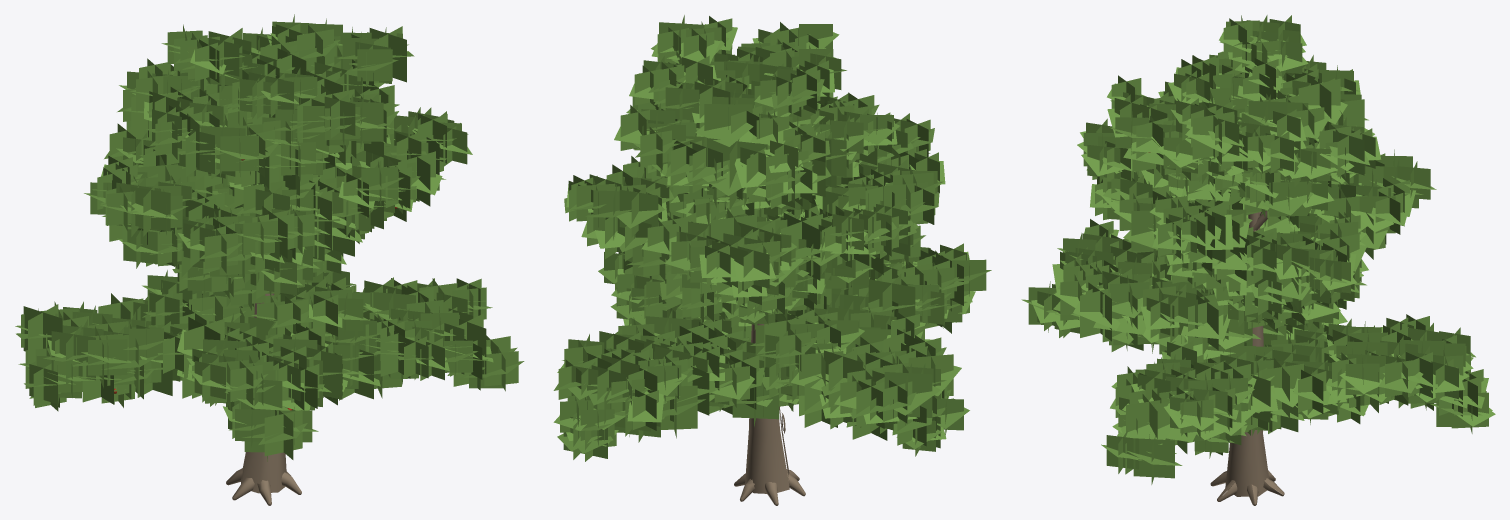
The model's file is pommier_4_f3_jeu.glb.
3 views of the same model, side by side, from view 1: azimuth 30°, elevation 25°; view 2: azimuth 150°, elevation 25°; view 3: azimuth 270°, elevation 25° (orthographic). The views are drawn at different scales.
Visible parts, largest first — view 1: Pommier_T4_f3_Leger; view 2: Pommier_T4_f3_Leger; view 3: Pommier_T4_f3_Leger.
Part boxes in pixels (x1,y1,x2,y2): Pommier_T4_f3_Leger: (15, 14, 524, 505); Pommier_T4_f3_Leger: (553, 15, 991, 505); Pommier_T4_f3_Leger: (1021, 15, 1495, 505).
Size of the model in its own units: 8.38 by 8.7 by 8.39.
